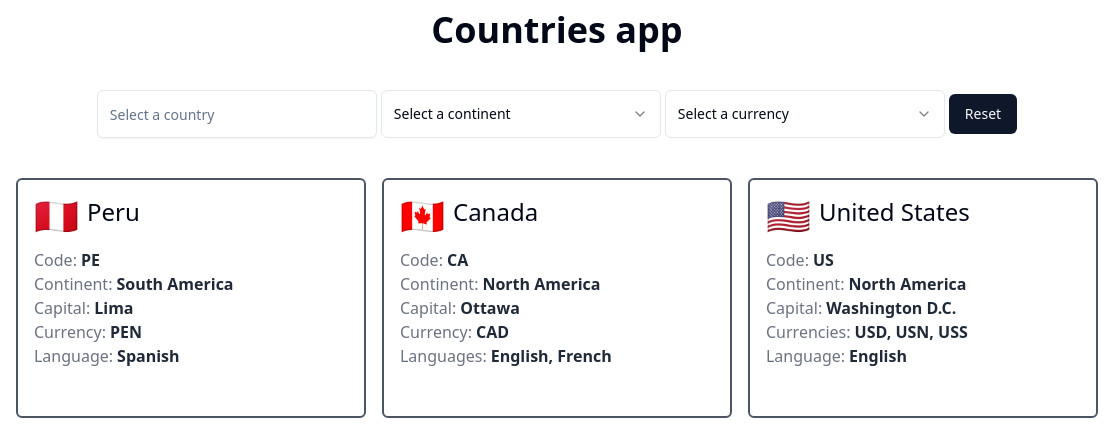
Test case: Home component › should render the country search input
Step 1. Type "Peru" into the field with placeholder "Select a country" → (237,114), box left=97, top=90, right=377, bottom=138
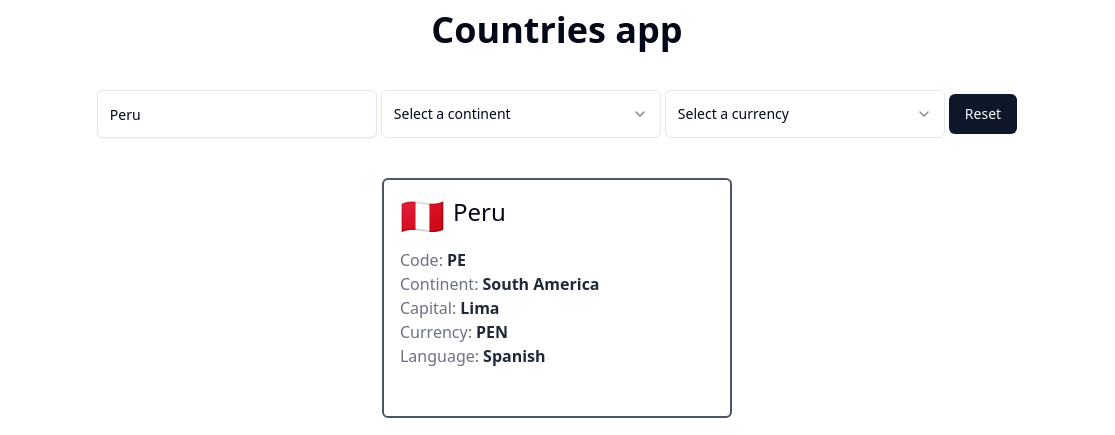
Expected: the heading "Peru" is shown, left=453, top=196, right=506, bottom=228
Expected: the number of list items is 1, left=382, top=178, right=732, bottom=418
